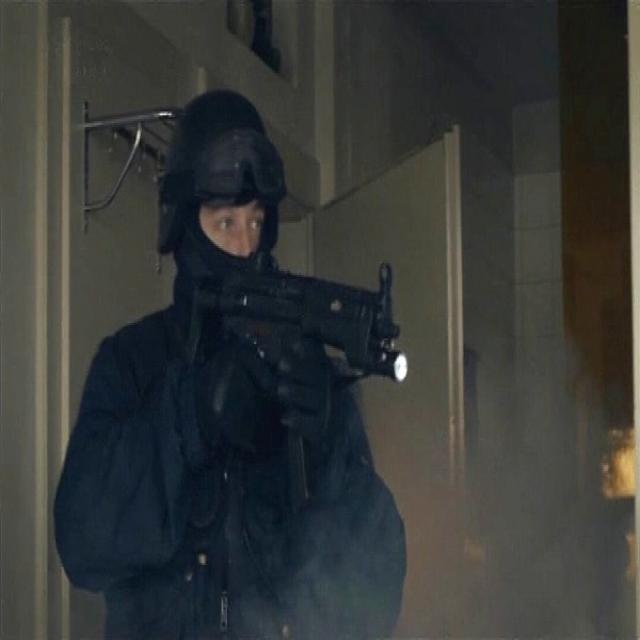rifle: (183, 254, 416, 521)
